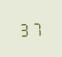seven: (31, 19, 42, 36)
three: (19, 20, 30, 37)
